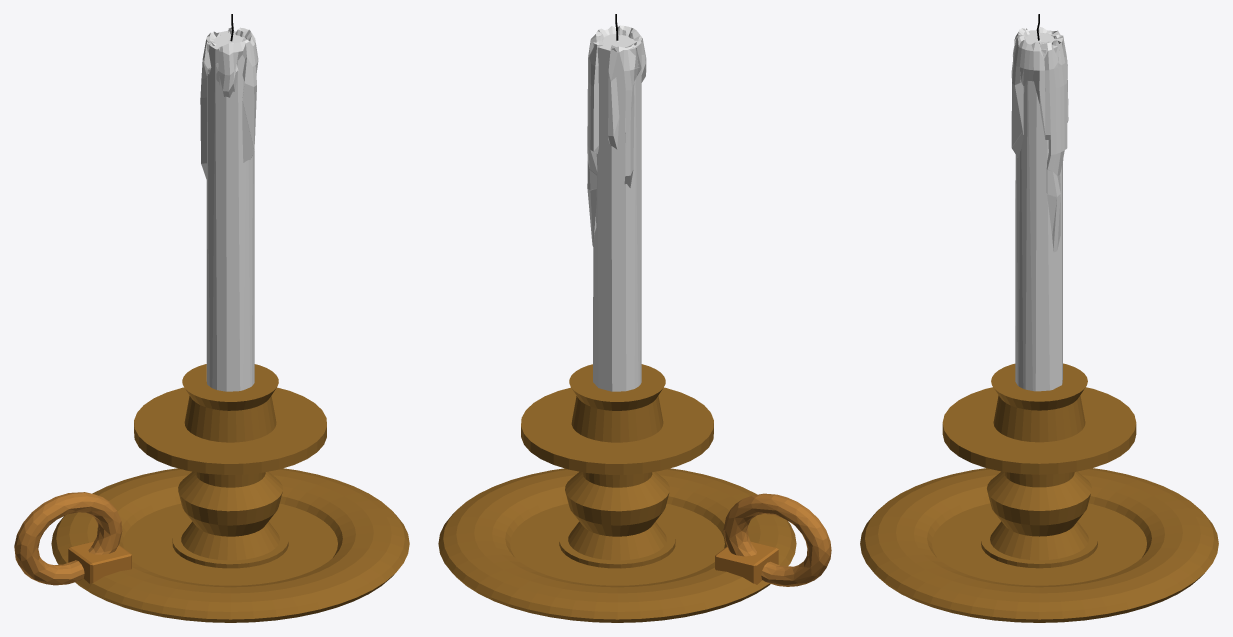
The model's file is Kitchen_SmallProps_Candle_small+handle.fbx.
3 renders of one model, left to right at view 1: azimuth 30°, elevation 25°; view 2: azimuth 150°, elevation 25°; view 3: azimuth 270°, elevation 25°, orthographic.
Parts seen in each view (by area): view 1: Ljushållare, Ljus, Handtag, Melted_part, Cube; view 2: Ljushållare, Ljus, Melted_part, Handtag, Cube; view 3: Ljushållare, Ljus, Melted_part.
Part boxes in pixels (left/top/right/bottom): Ljushållare: left=51, top=364, right=409, bottom=622; Ljus: left=206, top=30, right=254, bottom=391; Handtag: left=14, top=492, right=122, bottom=585; Melted_part: left=200, top=27, right=258, bottom=179; Cube: left=68, top=541, right=131, bottom=583; Ljushållare: left=438, top=364, right=796, bottom=622; Ljus: left=593, top=34, right=641, bottom=391; Melted_part: left=587, top=25, right=646, bottom=246; Handtag: left=723, top=493, right=831, bottom=586; Cube: left=715, top=541, right=778, bottom=584; Ljushållare: left=860, top=363, right=1218, bottom=622; Ljus: left=1015, top=30, right=1063, bottom=391; Melted_part: left=1011, top=27, right=1068, bottom=252.
Size of the model in its own units: 17.6 by 24.63 by 14.81.
